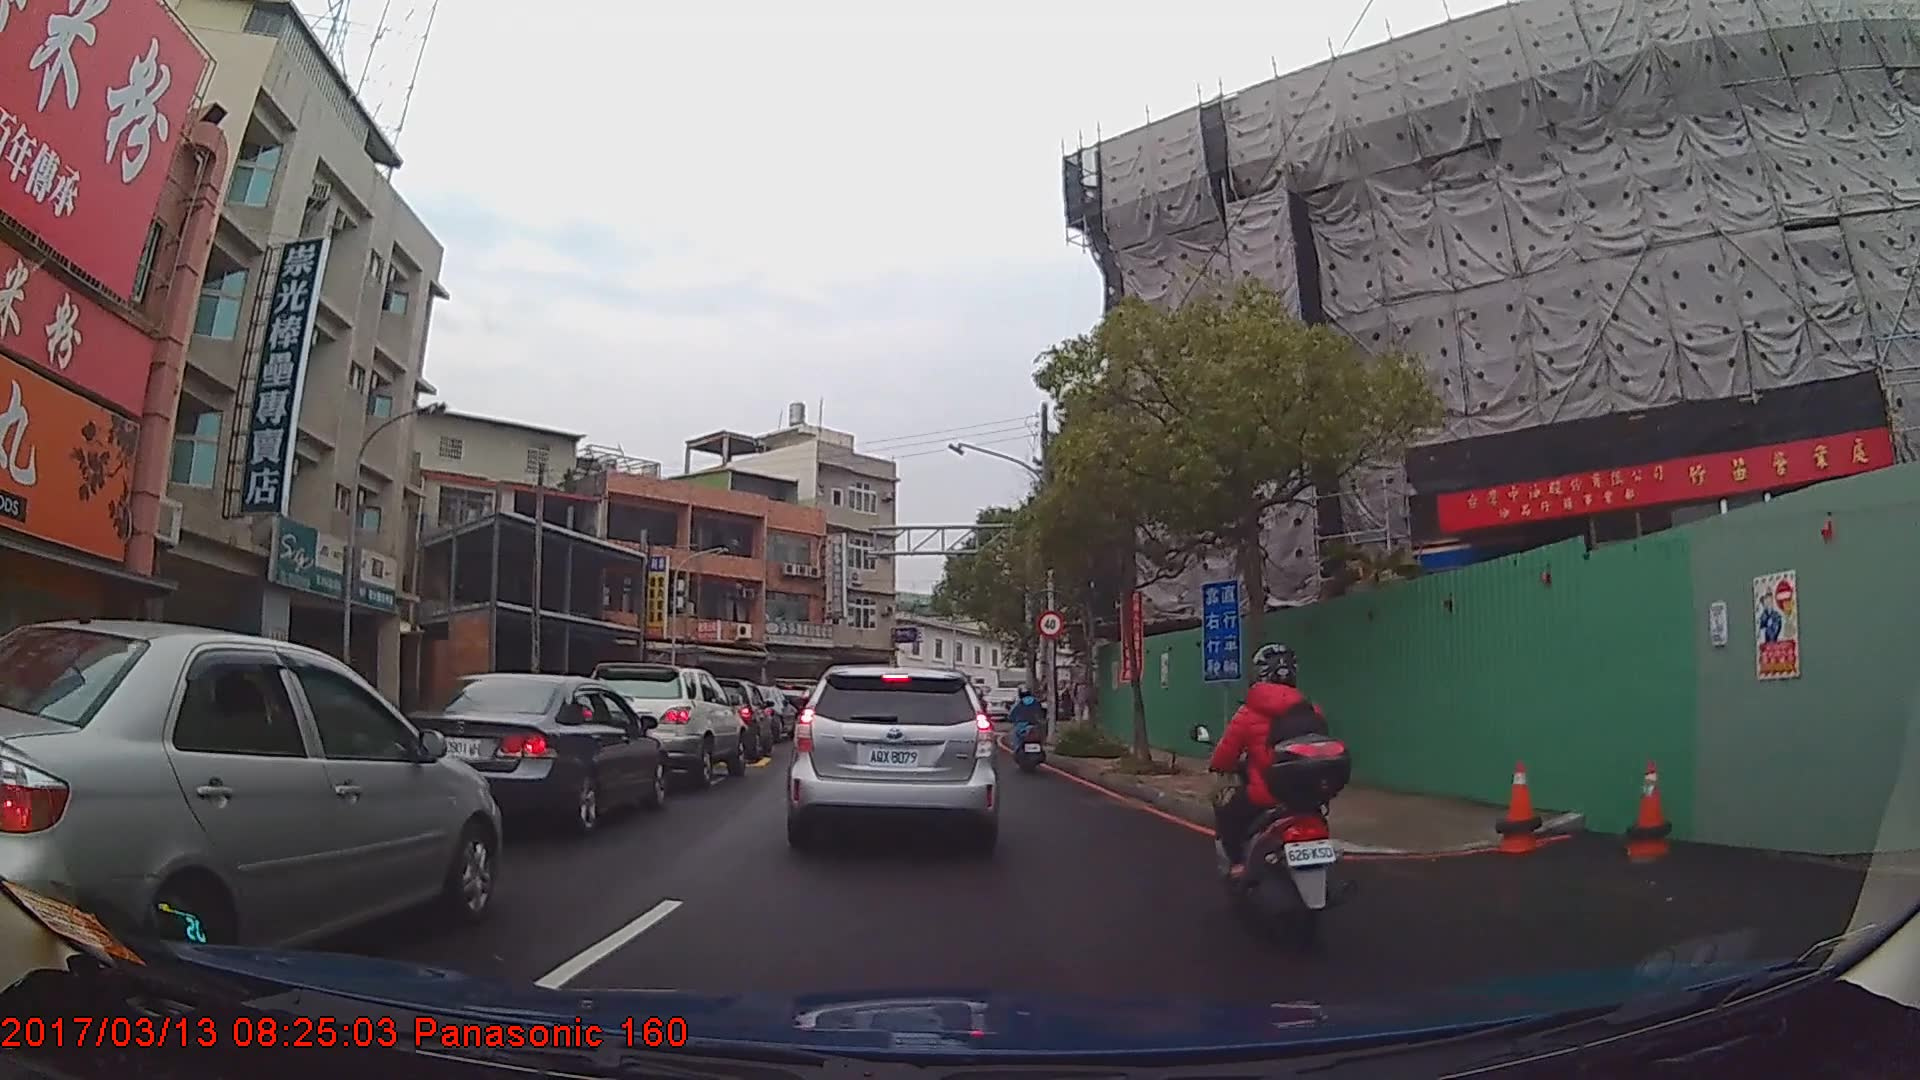rider: (1199, 641, 1366, 948), (1005, 683, 1051, 776)
vehicle: (0, 614, 496, 987), (390, 670, 666, 834), (782, 662, 998, 852), (585, 656, 746, 784)
